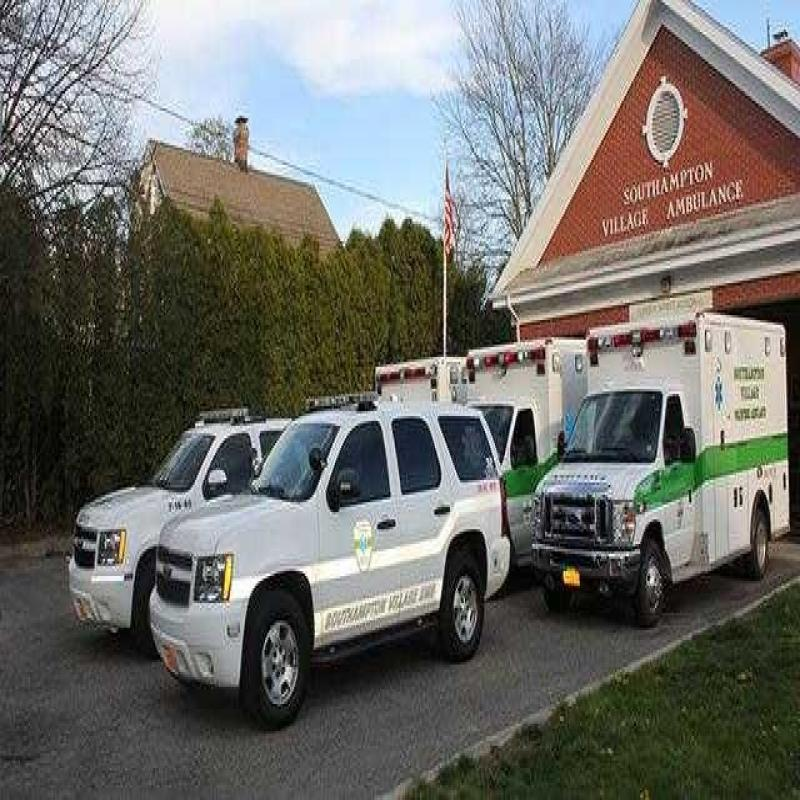AmbulanceSiren: (584, 313, 715, 370)
